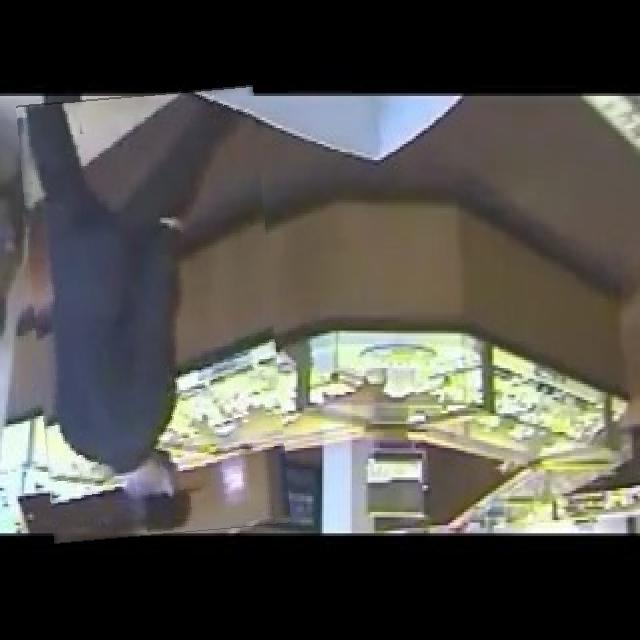Normal: (24, 89, 282, 539)
